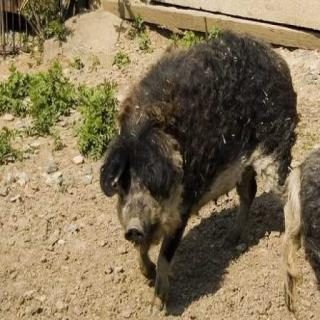Pig: (55, 0, 300, 242)
